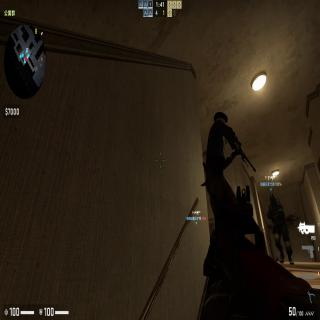CT-Body: (266, 190, 296, 266)
CT-Head: (269, 192, 277, 202)
T-Body: (203, 106, 238, 202)
T-Head: (215, 109, 229, 125)
